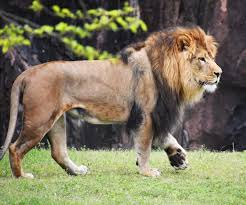lion: (10, 33, 210, 179)
